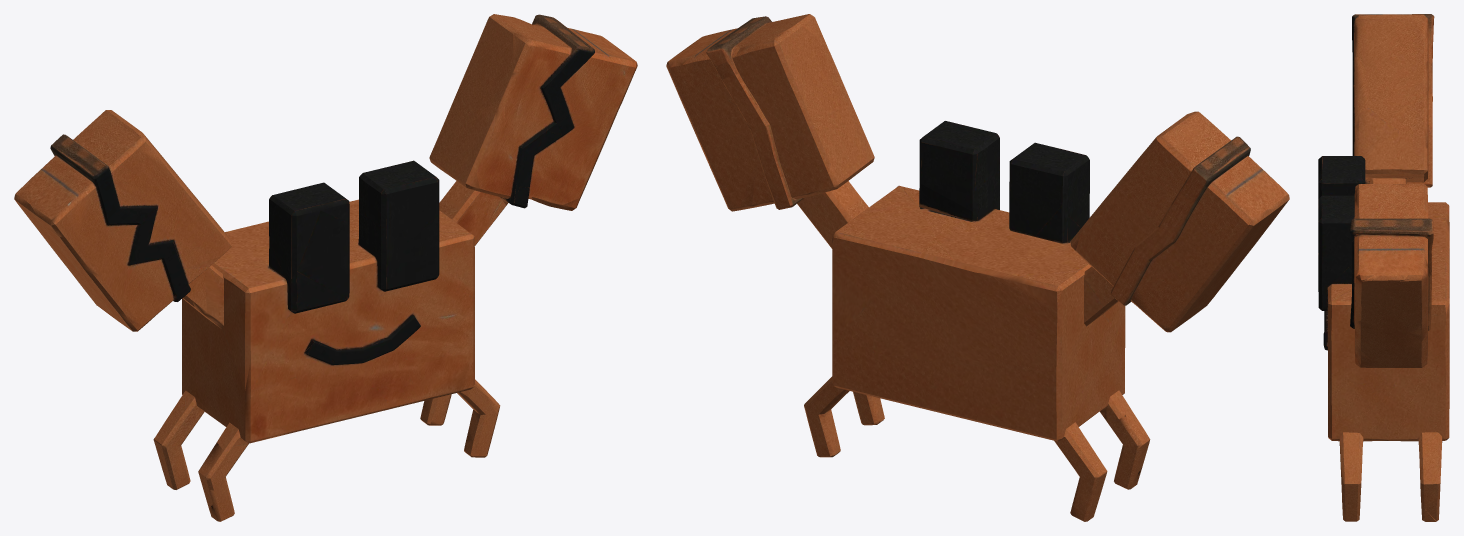
Rendered from crimson-fungus.glb.
The picture shows the model from 3 angles, left to right: view 1: azimuth 30°, elevation 25°; view 2: azimuth 150°, elevation 25°; view 3: azimuth 270°, elevation 25°; orthographic projection. The views are drawn at different scales.
Visible parts, largest first — view 1: output_unwrapped; view 2: output_unwrapped; view 3: output_unwrapped.
Part boxes in pixels (<box>): output_unwrapped: <box>14,14,637,521</box>; output_unwrapped: <box>666,14,1289,521</box>; output_unwrapped: <box>1318,14,1449,521</box>.
Size of the model in its own units: 1.9 by 1.23 by 0.4061.
Materials: 1 (1 with a texture image).
